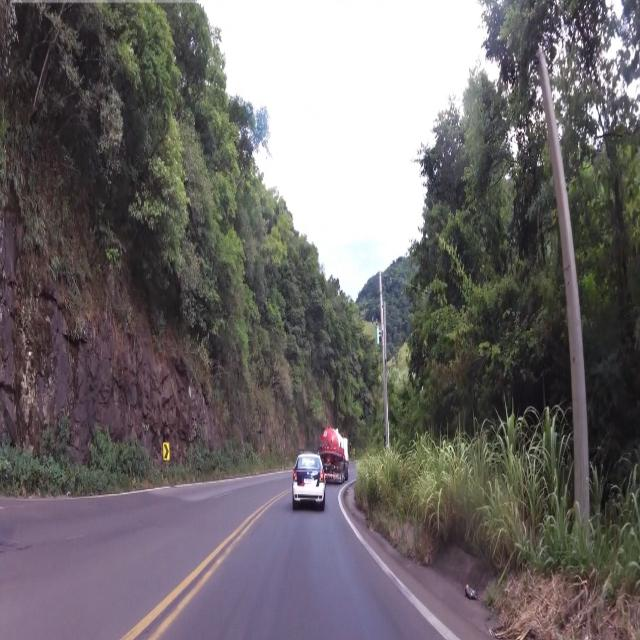Del: (162, 442, 170, 461)
